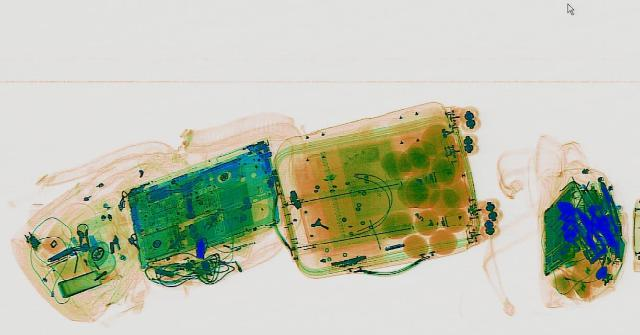Pliers: (596, 176, 626, 226)
